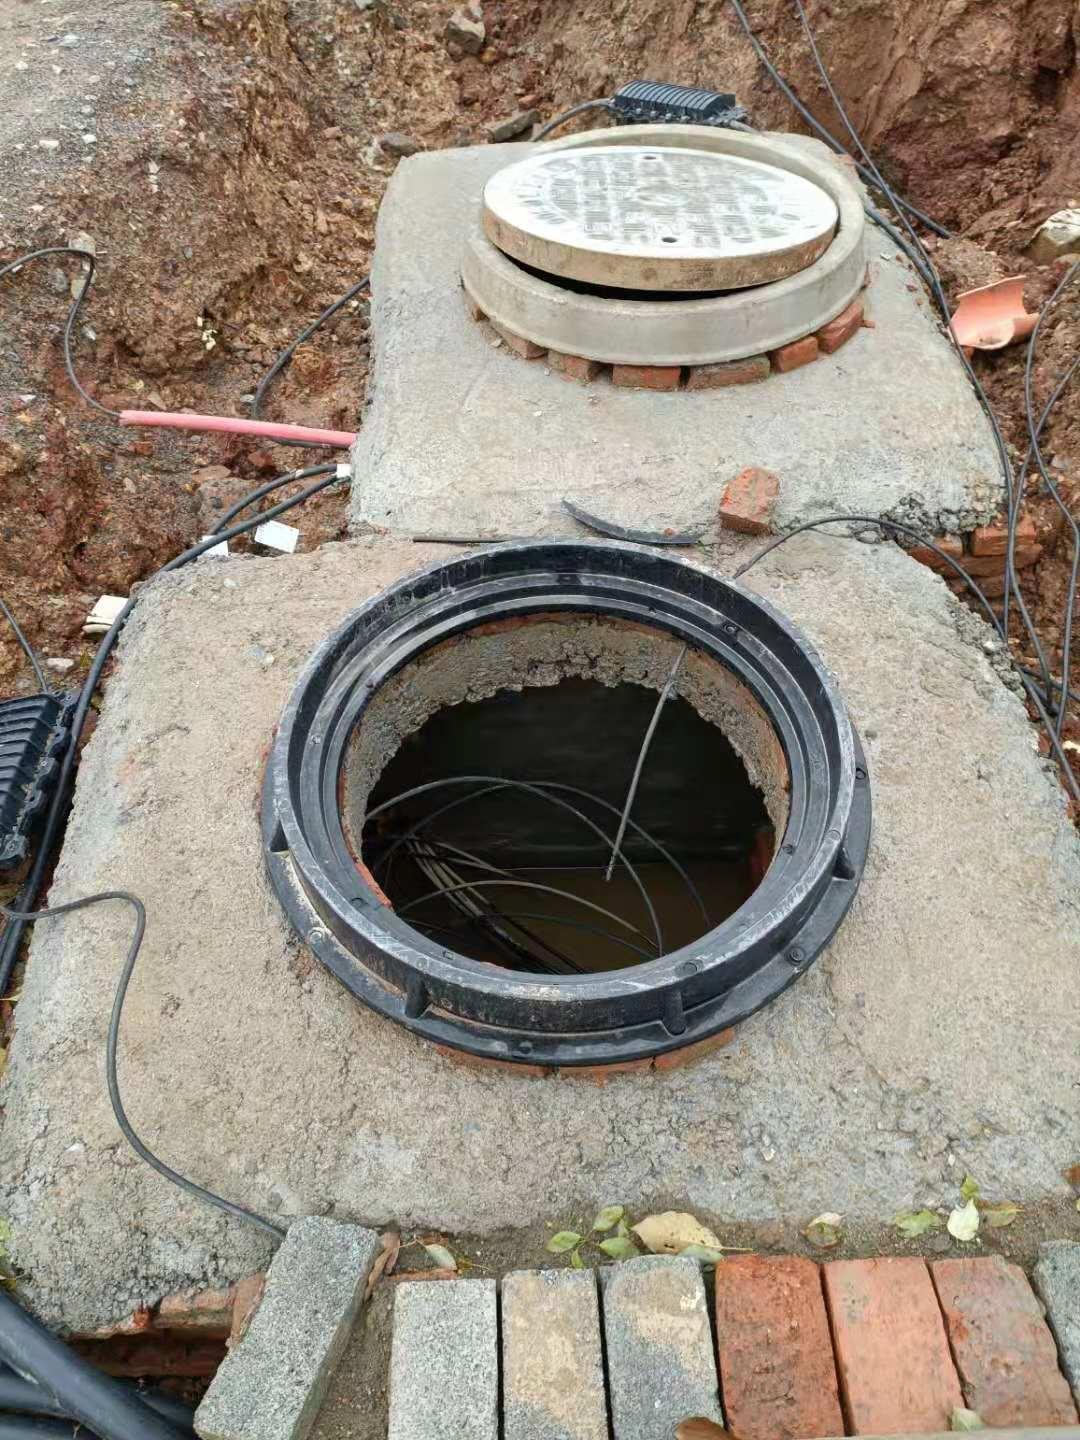wellcover: (259, 528, 898, 1041), (473, 138, 908, 351)
